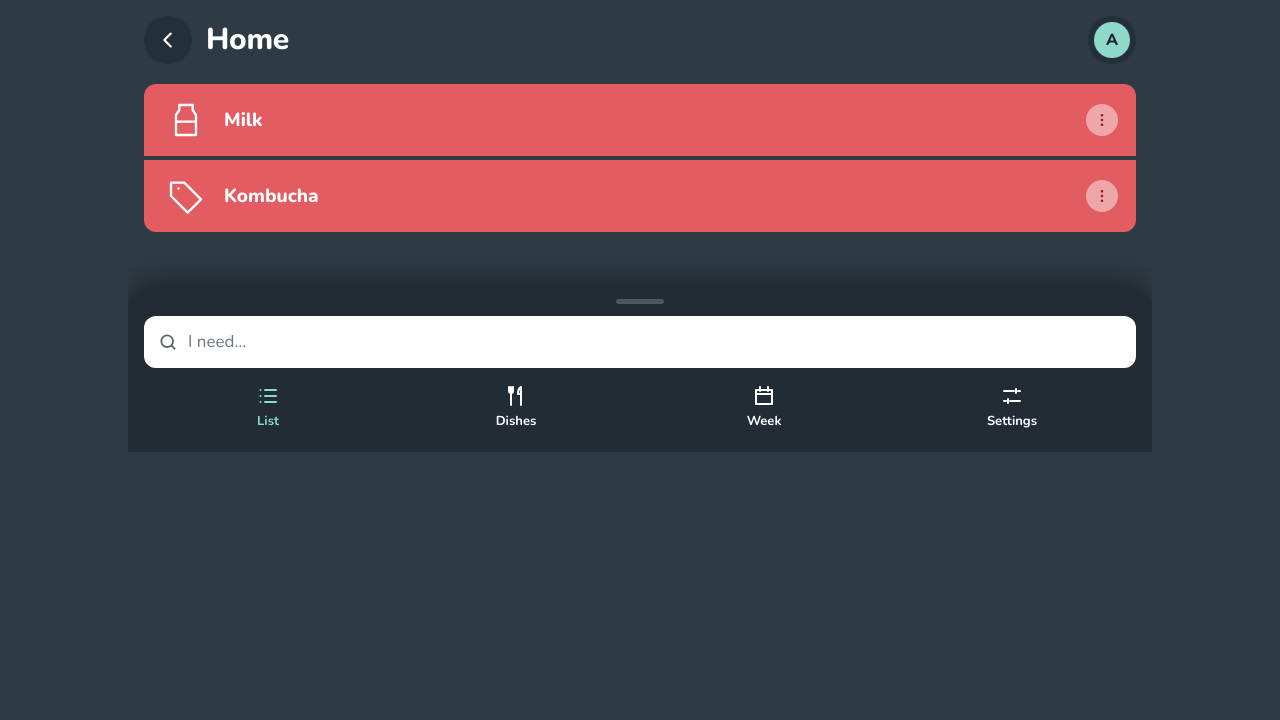
Test: list item ⋮ menu › searches and saves another icon
Click the button named "More options for Milk". click: (1102, 120)
box: [1076, 94, 1128, 146]
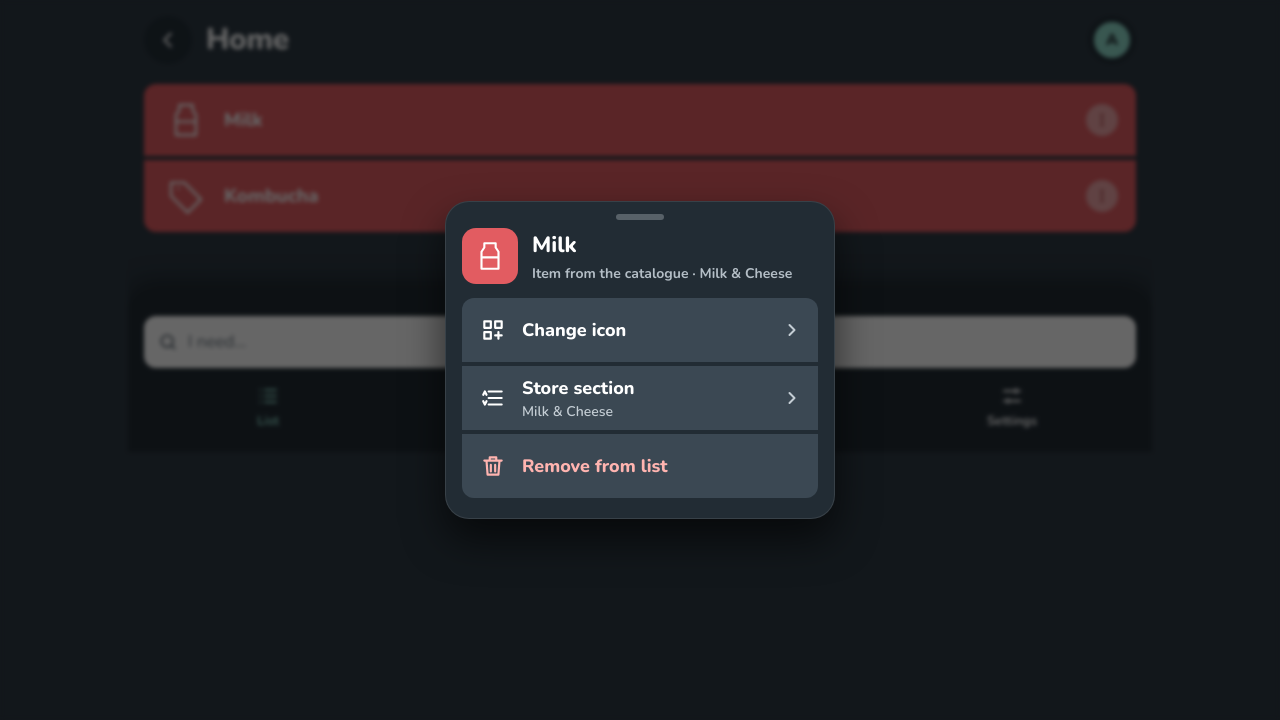
Click the button "Change icon". click: (574, 330)
box: [462, 298, 818, 362]
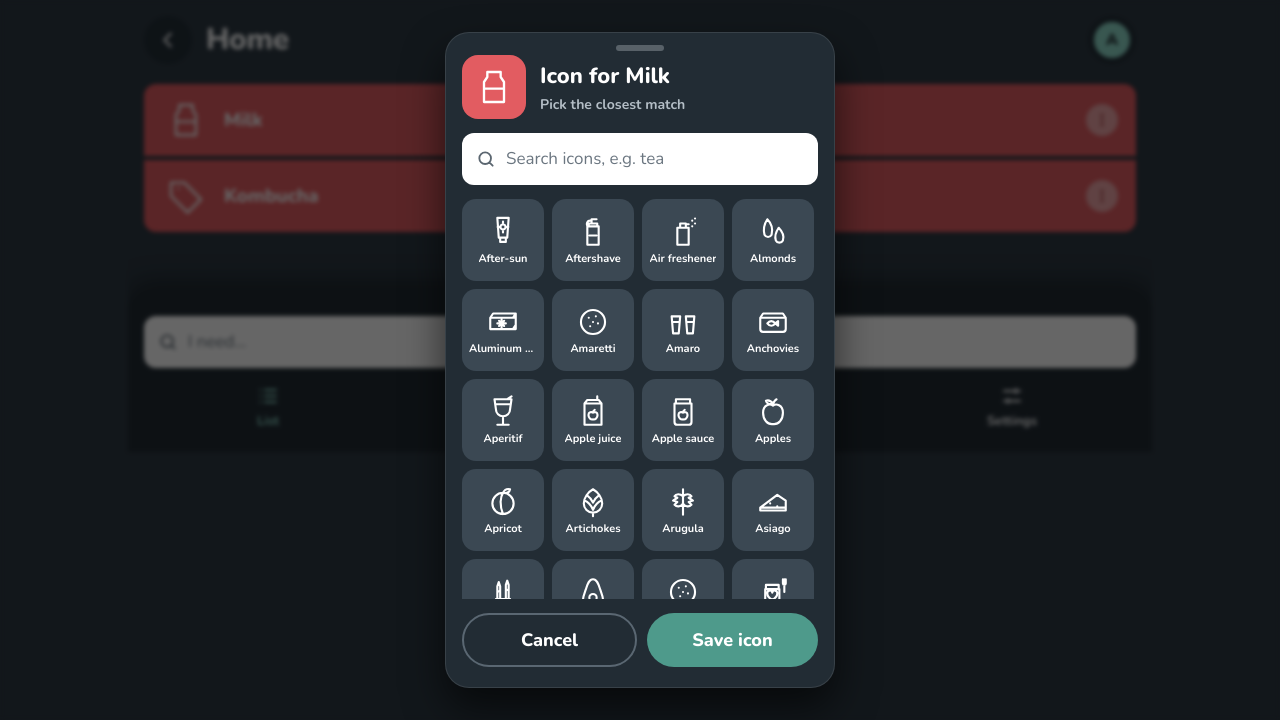
Type "zzz" into the field with id "item-icon-search". click: (659, 159)
box: [506, 146, 812, 172]
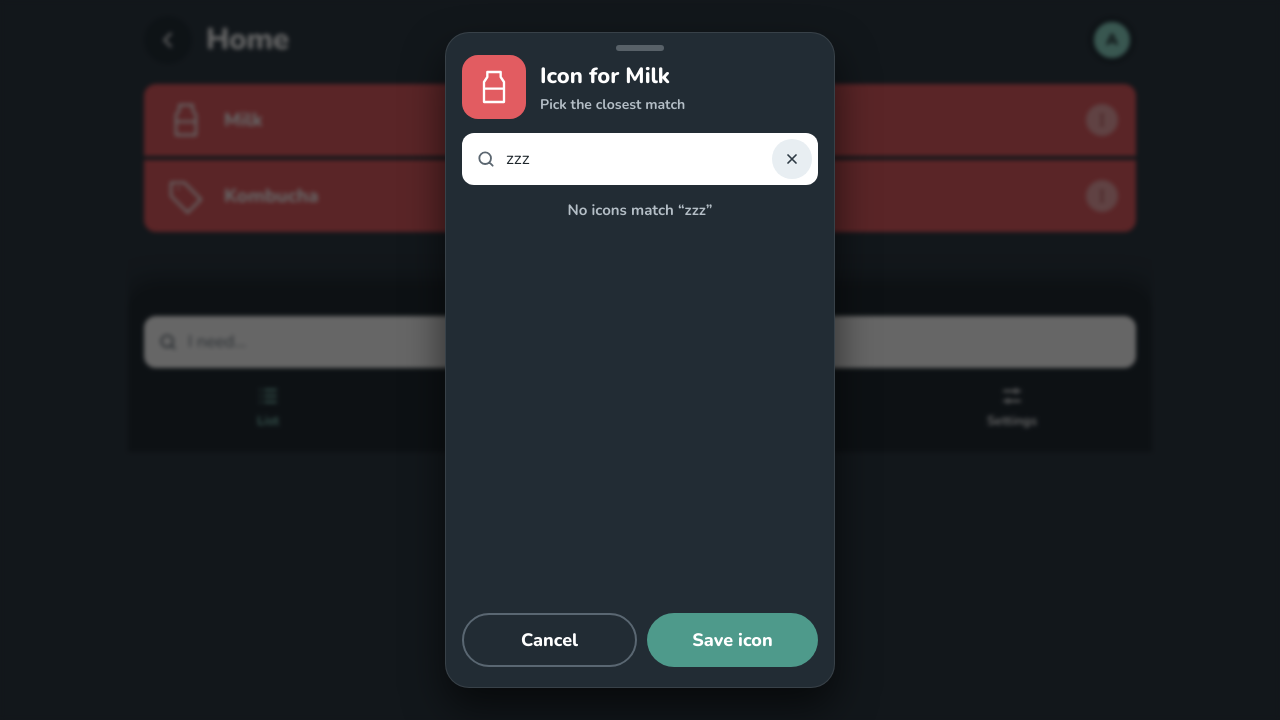
Result: the text "No icons match “zzz”" is shown at [568, 200, 712, 220]
Replace the text in the field with id "item-icon-search" with "coff". click: (634, 159)
box: [506, 146, 762, 172]
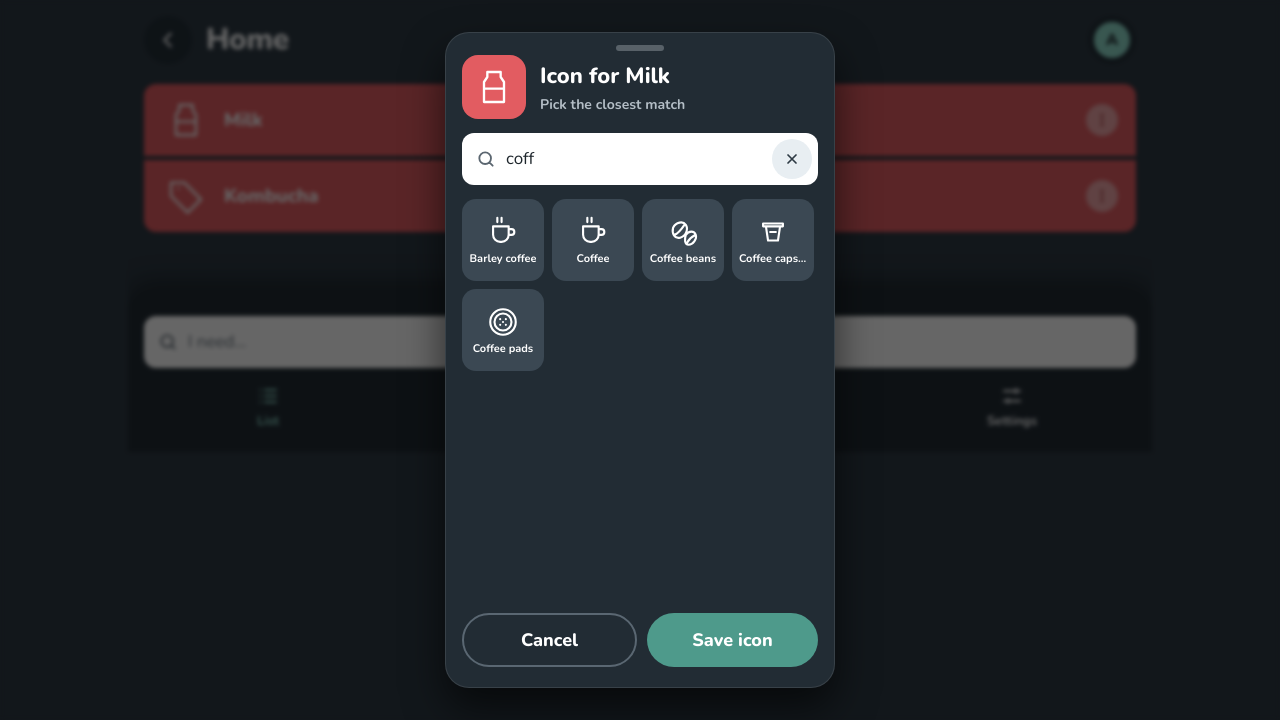
Click the button with test id "icon-choice". click: (593, 240)
box: [552, 199, 634, 281]
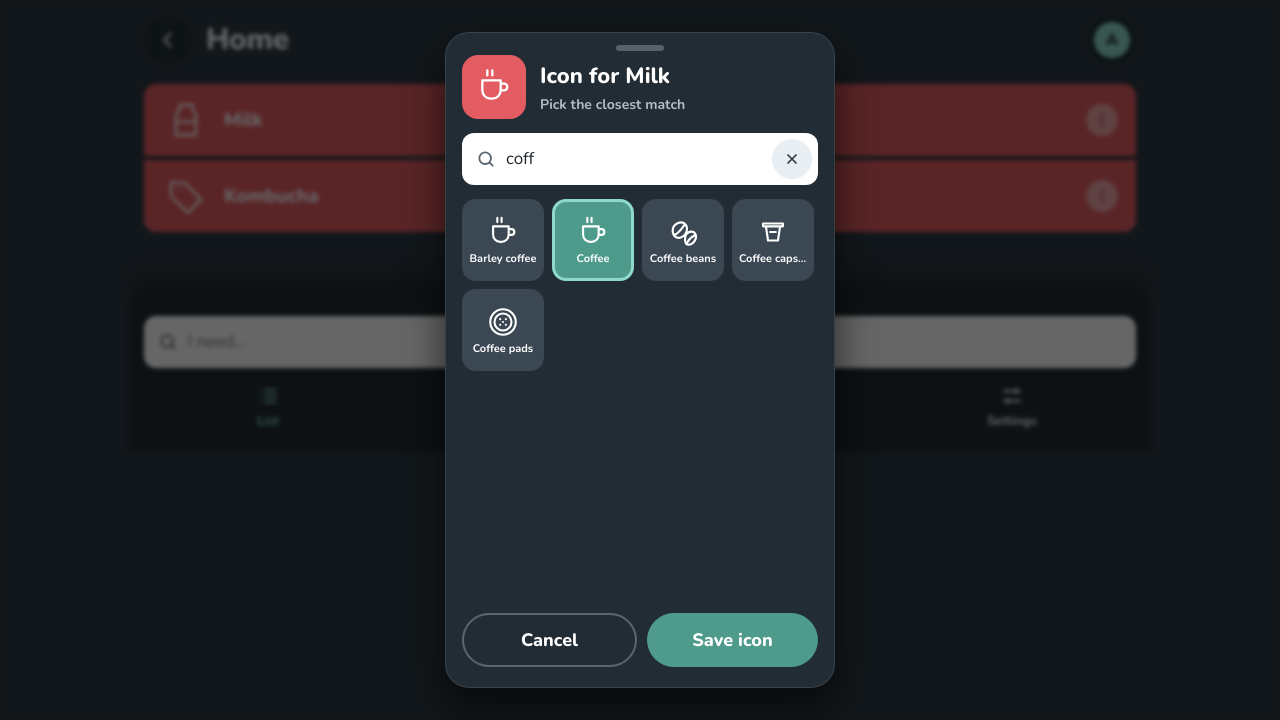
Click the button "Save icon". click: (732, 640)
box: [647, 613, 818, 667]
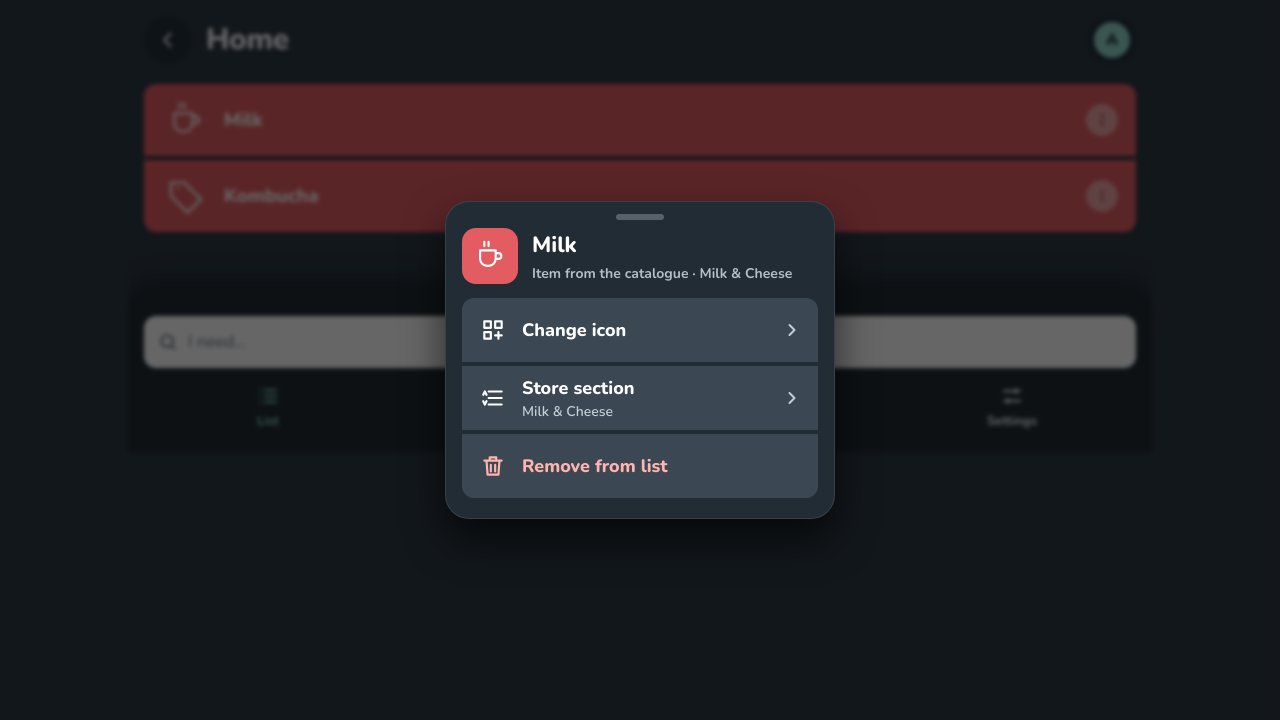
Result: the element with test id "item-menu" is shown at [446, 224, 834, 498]
